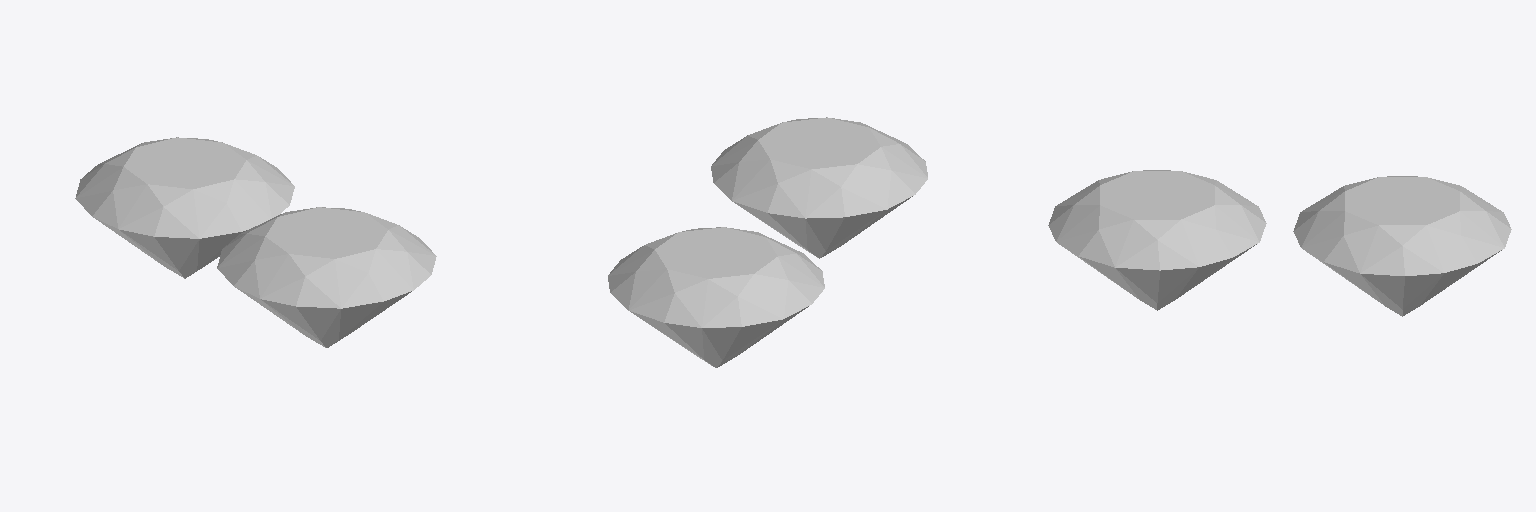
The model's file is doublediamond.obj.
3 renders of one model, left to right at view 1: azimuth 30°, elevation 25°; view 2: azimuth 150°, elevation 25°; view 3: azimuth 270°, elevation 25°, orthographic.
Size of the model in its own units: 2.17 by 1.3 by 4.18.